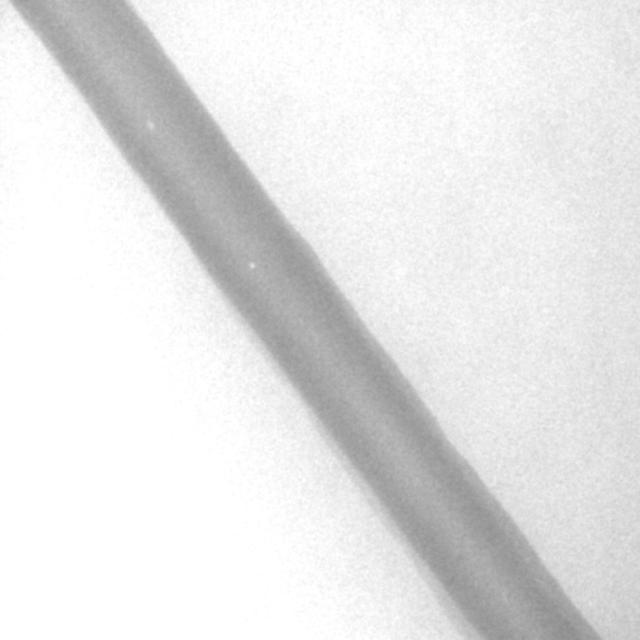air-hole: (248, 259, 256, 276), (149, 123, 157, 134)
